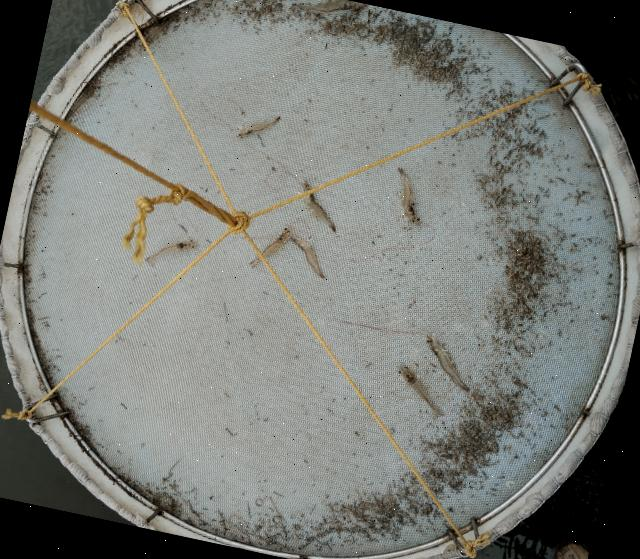shrimp: (397, 364, 443, 420), (427, 333, 470, 392), (249, 225, 294, 268), (302, 181, 336, 232), (290, 234, 325, 278), (145, 239, 199, 266), (398, 167, 421, 226), (235, 114, 281, 137)
